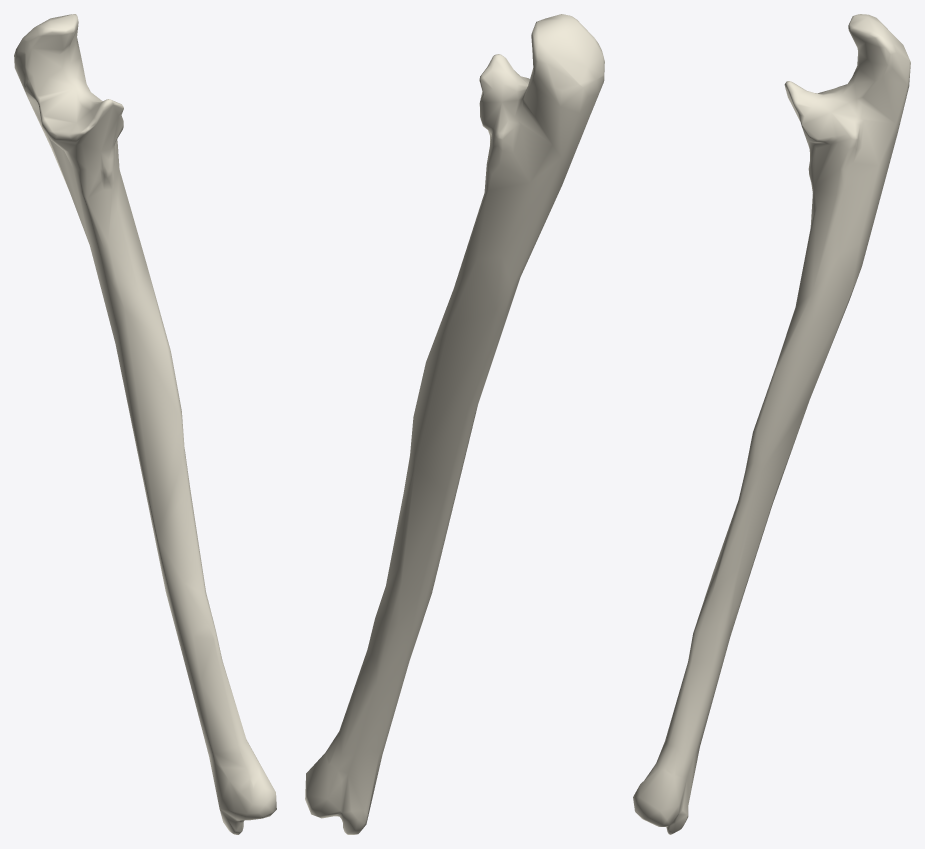
3 renders of one model, left to right at view 1: azimuth 30°, elevation 25°; view 2: azimuth 210°, elevation 25°; view 3: azimuth 270°, elevation 25°, orthographic. The views are drawn at different scales.
Parts seen in each view (by area): view 1: ZA_c187da6b8beb3b63; view 2: ZA_c187da6b8beb3b63; view 3: ZA_c187da6b8beb3b63.
Part boxes in pixels (x1,y1,x2,y2): ZA_c187da6b8beb3b63: [14, 14, 276, 834]; ZA_c187da6b8beb3b63: [305, 14, 604, 834]; ZA_c187da6b8beb3b63: [633, 14, 910, 834].
Size of the model in its own units: 0.0524 by 0.2554 by 0.0832.
